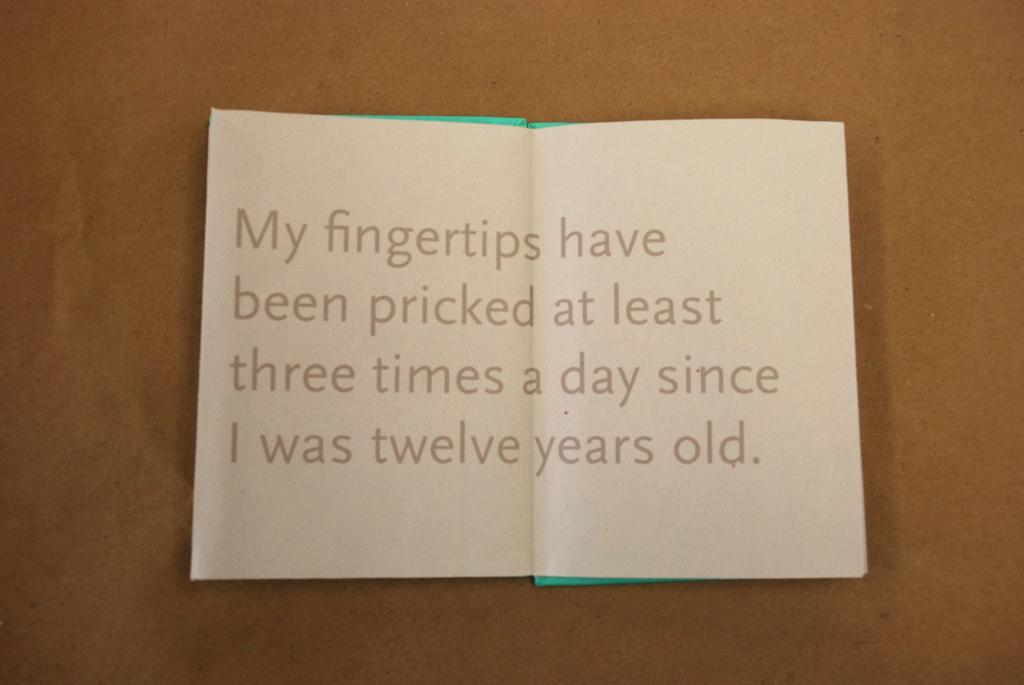book: (156, 76, 913, 595)
